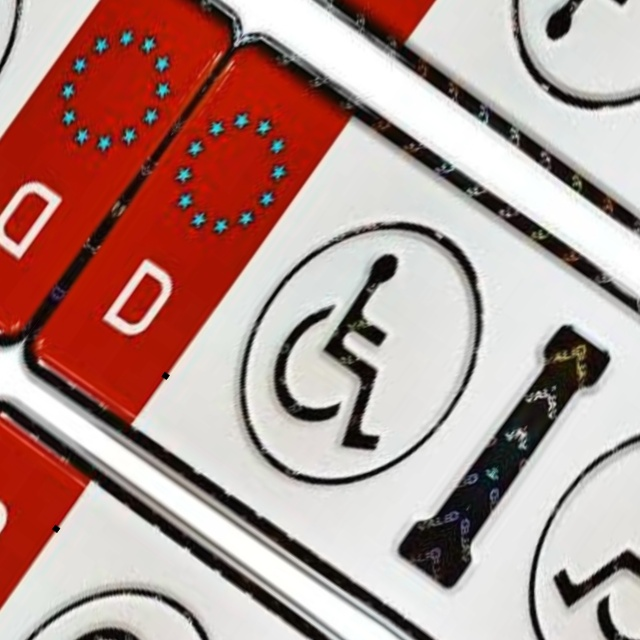ISA: (249, 229, 476, 469), (539, 437, 640, 640), (515, 0, 640, 97), (0, 604, 207, 640), (0, 0, 19, 142)
